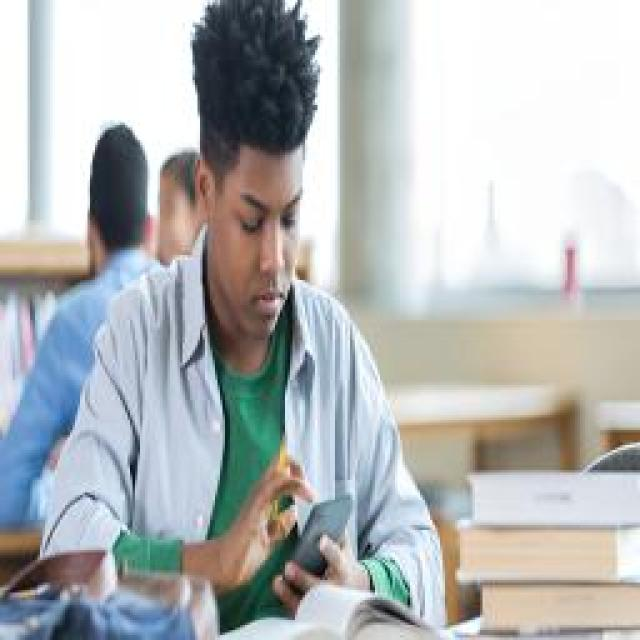phone: (40, 0, 445, 630)
